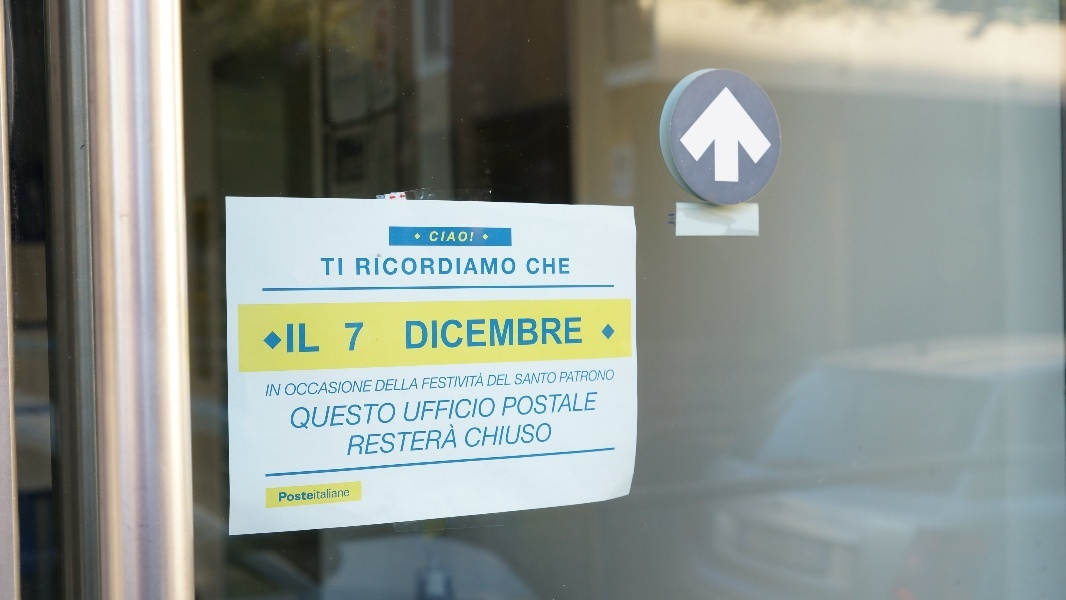text: (353, 424, 368, 456), (369, 424, 384, 456), (385, 424, 400, 456), (401, 424, 416, 456), (417, 424, 432, 456), (433, 424, 448, 456), (417, 318, 432, 349), (433, 318, 448, 349), (449, 318, 464, 349), (465, 318, 480, 349), (481, 318, 496, 349), (497, 318, 512, 349), (513, 318, 528, 349), (529, 318, 544, 349), (545, 318, 560, 349), (561, 318, 576, 349), (289, 324, 304, 354), (305, 324, 320, 354), (305, 402, 320, 431), (321, 402, 336, 431), (337, 402, 352, 431), (353, 402, 368, 431), (369, 402, 384, 431), (481, 422, 496, 448), (497, 422, 512, 448), (513, 422, 528, 448), (529, 422, 544, 448), (291, 402, 304, 431), (513, 391, 528, 416), (529, 391, 544, 416), (545, 391, 560, 416), (561, 391, 576, 416), (577, 391, 592, 416), (417, 397, 432, 422), (433, 397, 448, 422), (449, 397, 464, 422), (465, 397, 480, 422), (481, 397, 496, 422), (466, 422, 480, 448), (385, 402, 396, 431), (406, 318, 416, 349), (353, 322, 363, 352), (369, 258, 384, 276), (385, 258, 400, 276), (401, 258, 416, 276), (417, 258, 432, 276), (433, 258, 448, 276), (449, 258, 464, 276), (465, 258, 480, 276), (481, 258, 496, 276), (497, 258, 512, 276), (529, 257, 544, 275), (545, 257, 560, 275), (449, 424, 457, 456), (321, 259, 336, 276), (433, 373, 448, 390), (449, 373, 464, 390), (465, 373, 480, 390), (406, 397, 416, 422), (344, 322, 352, 352), (289, 380, 304, 396), (305, 380, 320, 396), (321, 380, 336, 396), (337, 380, 352, 396), (353, 380, 368, 396), (289, 487, 304, 502), (305, 487, 320, 502), (321, 487, 336, 502), (356, 258, 368, 276), (529, 372, 544, 386), (545, 422, 553, 448), (385, 379, 400, 392), (401, 379, 416, 392), (561, 370, 576, 383), (577, 370, 592, 383), (593, 370, 608, 383), (337, 487, 350, 502), (433, 231, 448, 243), (449, 231, 464, 243), (505, 391, 512, 416), (497, 374, 511, 386), (516, 372, 528, 386), (545, 372, 557, 386), (561, 257, 570, 275), (577, 318, 582, 349), (593, 391, 599, 416), (424, 373, 432, 390), (279, 487, 288, 502), (337, 259, 344, 276), (273, 384, 282, 397), (465, 231, 474, 243), (489, 374, 496, 386), (378, 379, 384, 392), (609, 370, 614, 383), (369, 380, 373, 396), (321, 324, 323, 354), (513, 258, 516, 276), (268, 384, 272, 397), (481, 373, 484, 390), (286, 380, 288, 396), (287, 324, 288, 354), (430, 231, 432, 243), (527, 257, 528, 275), (417, 379, 418, 392)
